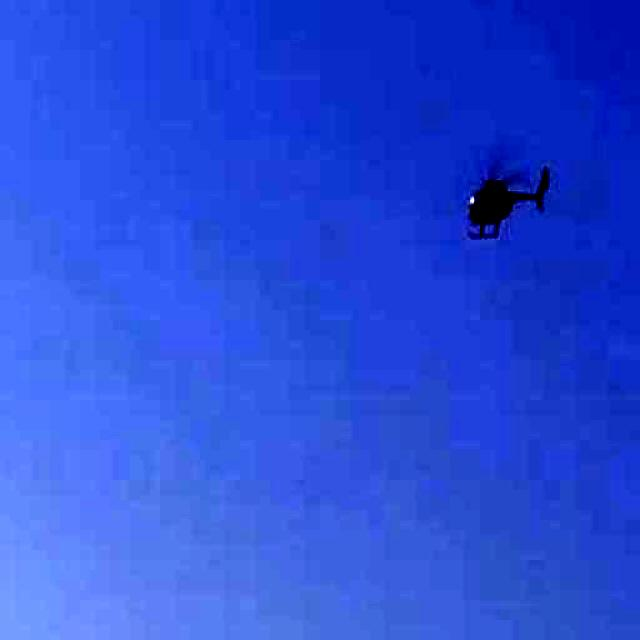drone: (422, 105, 582, 281)
